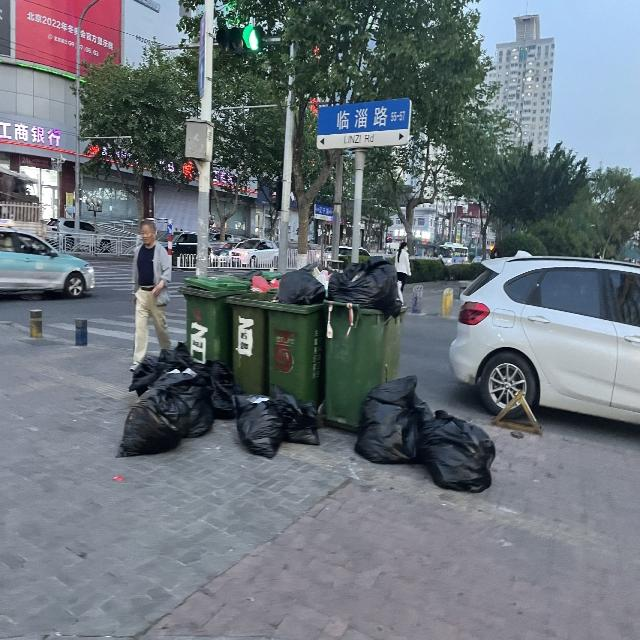garbage: (114, 340, 320, 458), (354, 374, 496, 494)
garbage_bin: (177, 275, 248, 366), (226, 289, 277, 392)
overflow: (322, 261, 408, 431), (259, 269, 324, 404)
